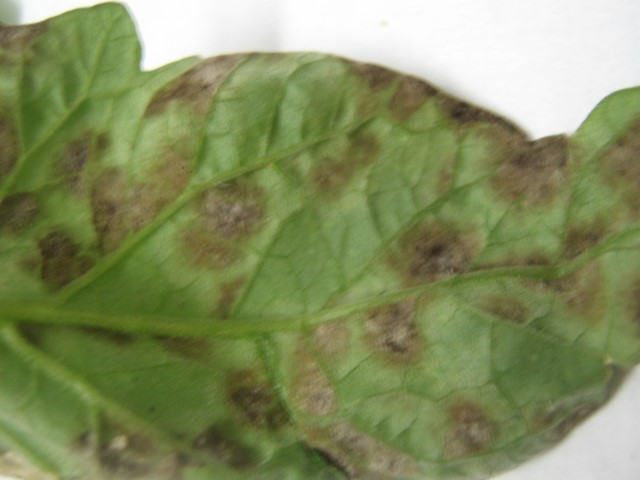cladosporium: (65, 135, 177, 236), (386, 214, 495, 276), (309, 122, 386, 206), (517, 251, 608, 322), (192, 183, 263, 267), (498, 127, 574, 203), (365, 298, 434, 369), (28, 229, 91, 296), (230, 372, 287, 434), (444, 403, 503, 458)
